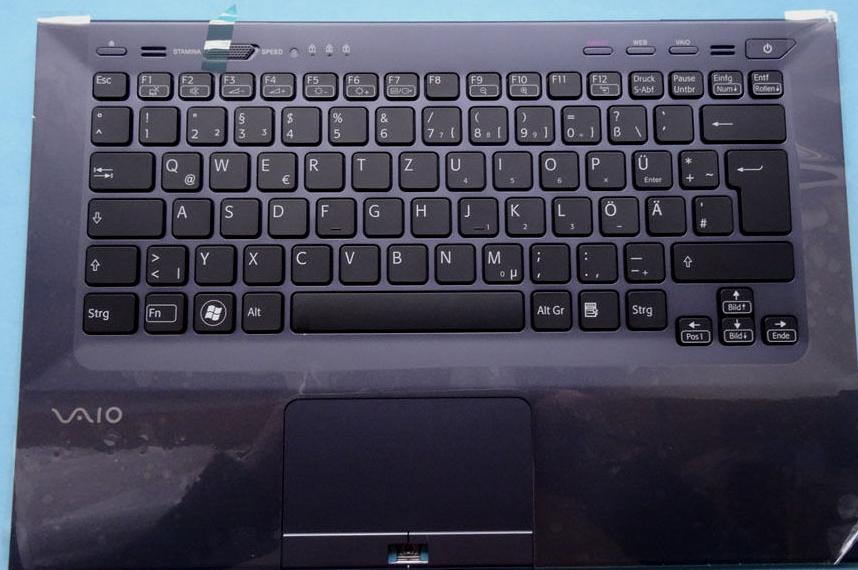0: (558, 101, 598, 141)
1: (136, 103, 176, 142)
2: (183, 103, 224, 142)
3: (229, 103, 271, 142)
4: (278, 103, 318, 142)
5: (325, 103, 365, 142)
6: (372, 103, 412, 142)
7: (419, 103, 460, 143)
8: (465, 103, 505, 142)
9: (511, 102, 552, 142)
a: (169, 195, 209, 235)
accent: (651, 101, 691, 140)
ae: (643, 193, 684, 233)
alt-left: (238, 289, 280, 330)
altgr-right: (528, 287, 570, 328)
b: (383, 240, 425, 282)
c: (288, 241, 329, 282)
caret: (87, 102, 127, 142)
comma: (526, 240, 568, 281)
d: (264, 194, 305, 235)
del: (698, 100, 783, 139)
e: (254, 149, 294, 189)
enter: (722, 146, 789, 232)
f: (312, 194, 353, 235)
g: (360, 194, 400, 234)
h: (407, 194, 447, 234)
hash: (690, 192, 731, 233)
i: (489, 147, 529, 187)
j: (455, 194, 495, 234)
k: (502, 193, 542, 233)
keyboard: (59, 19, 810, 350)
l: (549, 193, 589, 233)
less: (142, 241, 185, 283)
m: (478, 240, 521, 282)
minus: (620, 239, 662, 280)
n: (431, 240, 472, 281)
o: (535, 147, 576, 187)
oe: (596, 193, 636, 234)
p: (582, 147, 622, 187)
plus: (676, 146, 716, 187)
point: (573, 240, 615, 281)
q: (158, 148, 199, 190)
r: (301, 149, 342, 189)
s: (216, 195, 257, 236)
shift-left: (81, 241, 135, 284)
shift-lock: (83, 194, 162, 236)
shift-right: (668, 237, 792, 279)
space: (287, 287, 522, 330)
ss: (604, 102, 644, 141)
strg-left: (77, 289, 133, 332)
strg-right: (622, 286, 665, 328)
t: (349, 149, 388, 188)
tab: (86, 147, 150, 189)
u: (442, 148, 482, 188)
ue: (629, 147, 671, 188)
v: (336, 241, 377, 281)
w: (206, 148, 246, 188)
x: (240, 241, 281, 282)
y: (192, 242, 233, 283)
z: (396, 148, 436, 188)
